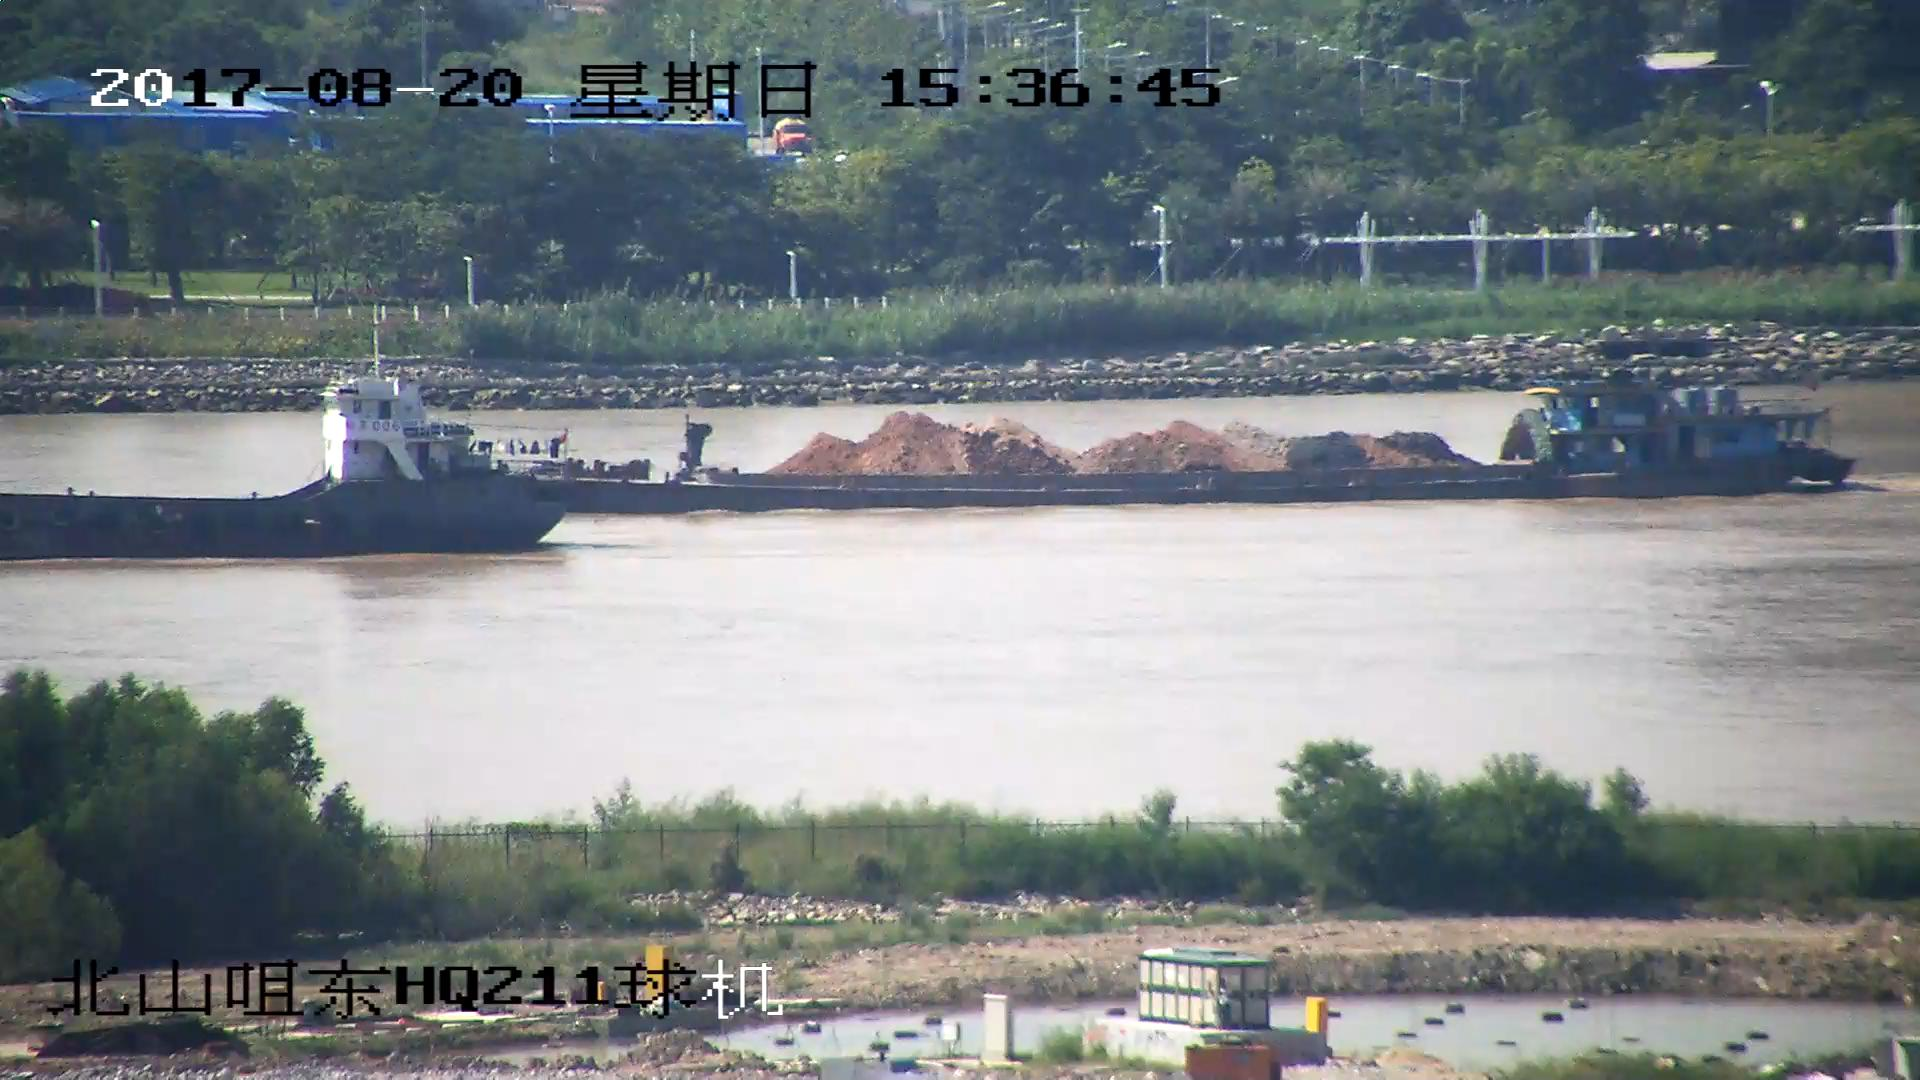general cargo ship: (1, 310, 580, 564)
ore carrier: (474, 339, 1859, 507)
